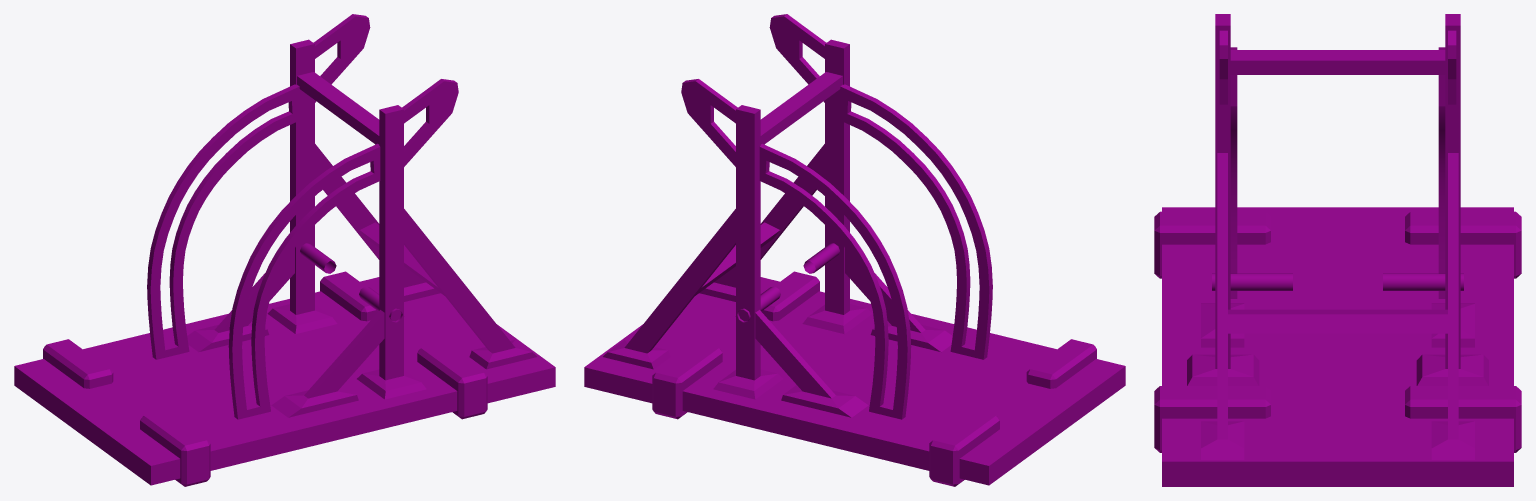
Rendered from Weapon_platform_001.FBX.
The picture shows the model from 3 angles, left to right: view 1: azimuth 30°, elevation 25°; view 2: azimuth 150°, elevation 25°; view 3: azimuth 270°, elevation 25°; orthographic projection. The views are drawn at different scales.
Visible parts, largest first — view 1: Weapon_platform_001; view 2: Weapon_platform_001; view 3: Weapon_platform_001.
Part boxes in pixels (x1,y1,x2,y2): Weapon_platform_001: [14, 14, 555, 486]; Weapon_platform_001: [584, 14, 1125, 486]; Weapon_platform_001: [1154, 14, 1521, 486].
Size of the model in its own units: 650 by 491 by 397.
